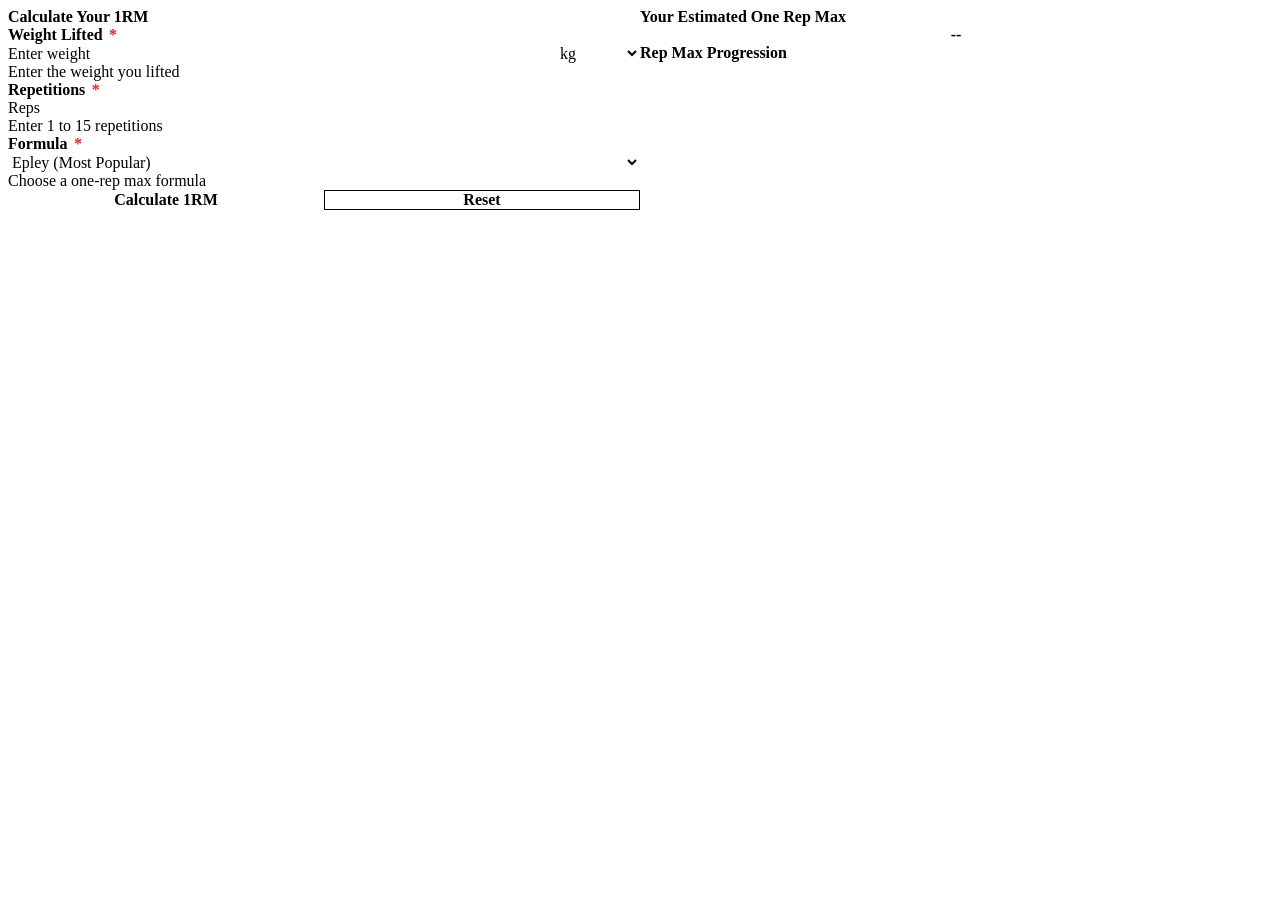
OneRepMaxCalculator › computes the source Epley example end-to-end
Type "100" into the number field named "Weight Lifted". click: [282, 54]
box: 8,44 -> 556,63
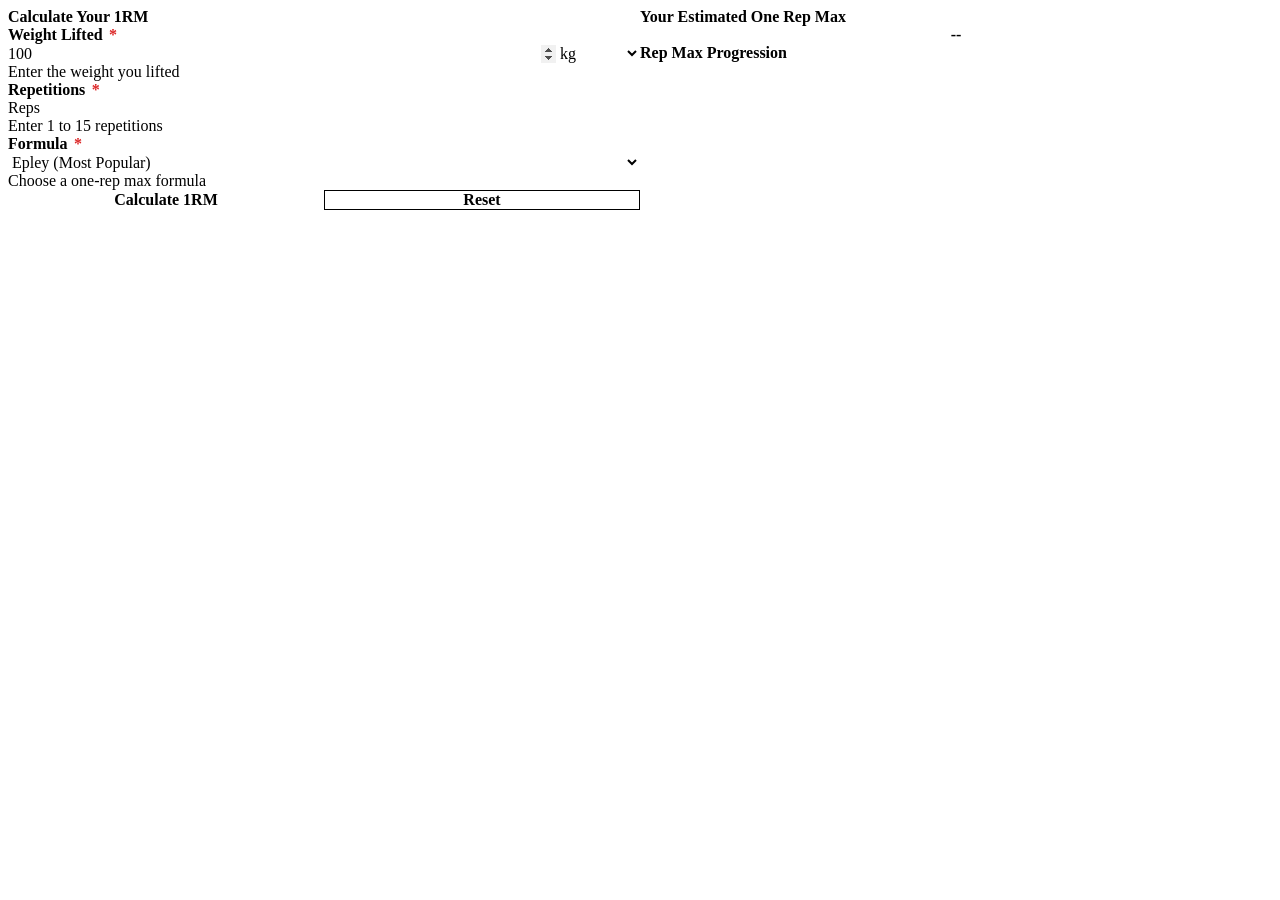
Type "10" into the number field labelled "Repetitions". click: [324, 108]
box: 8,99 -> 640,117
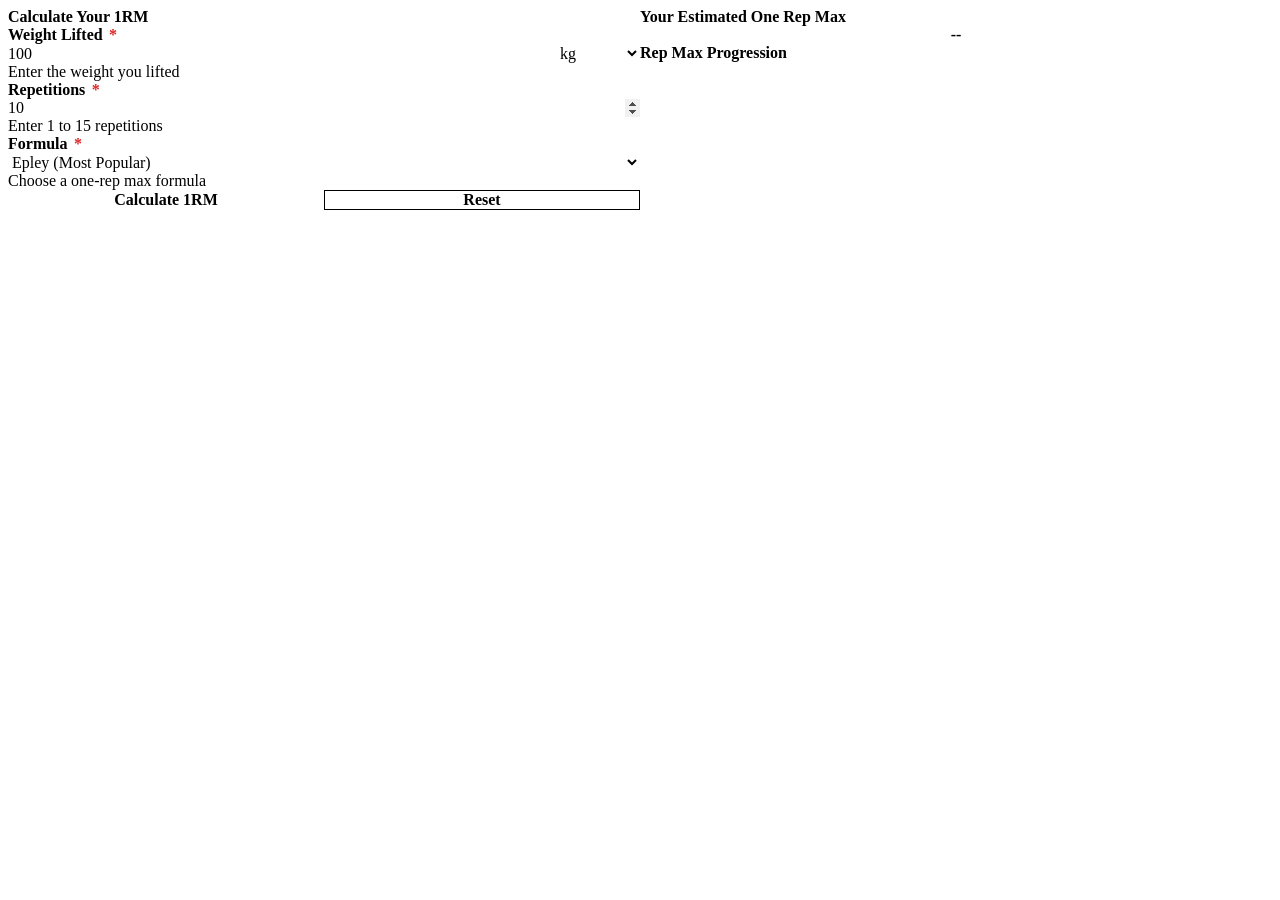
Select "Epley (Most Popular)" in the dropdown labelled "Formula". click: [324, 162]
box: 8,153 -> 640,172
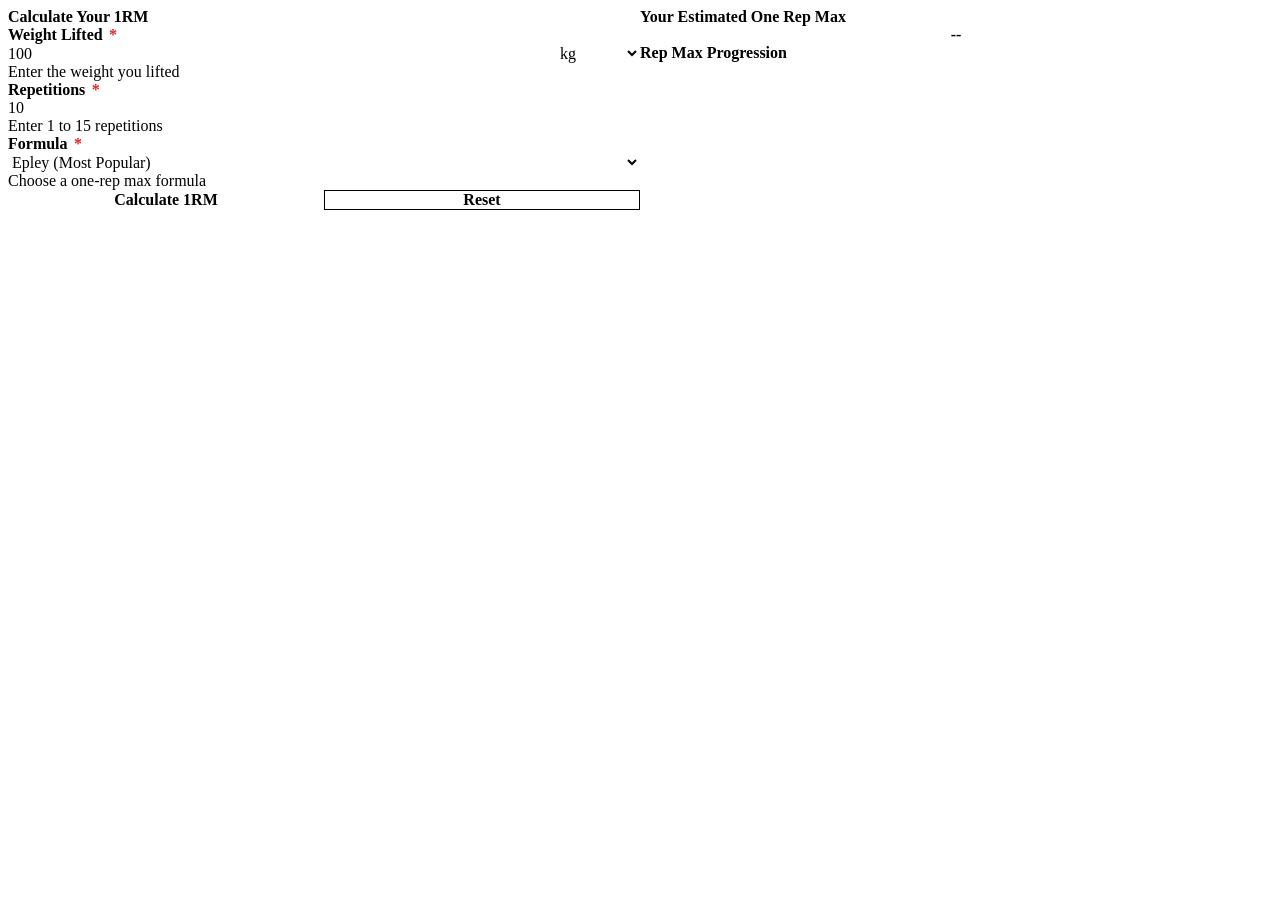
Click the button "Calculate 1RM". click: [166, 200]
box: 8,190 -> 324,210
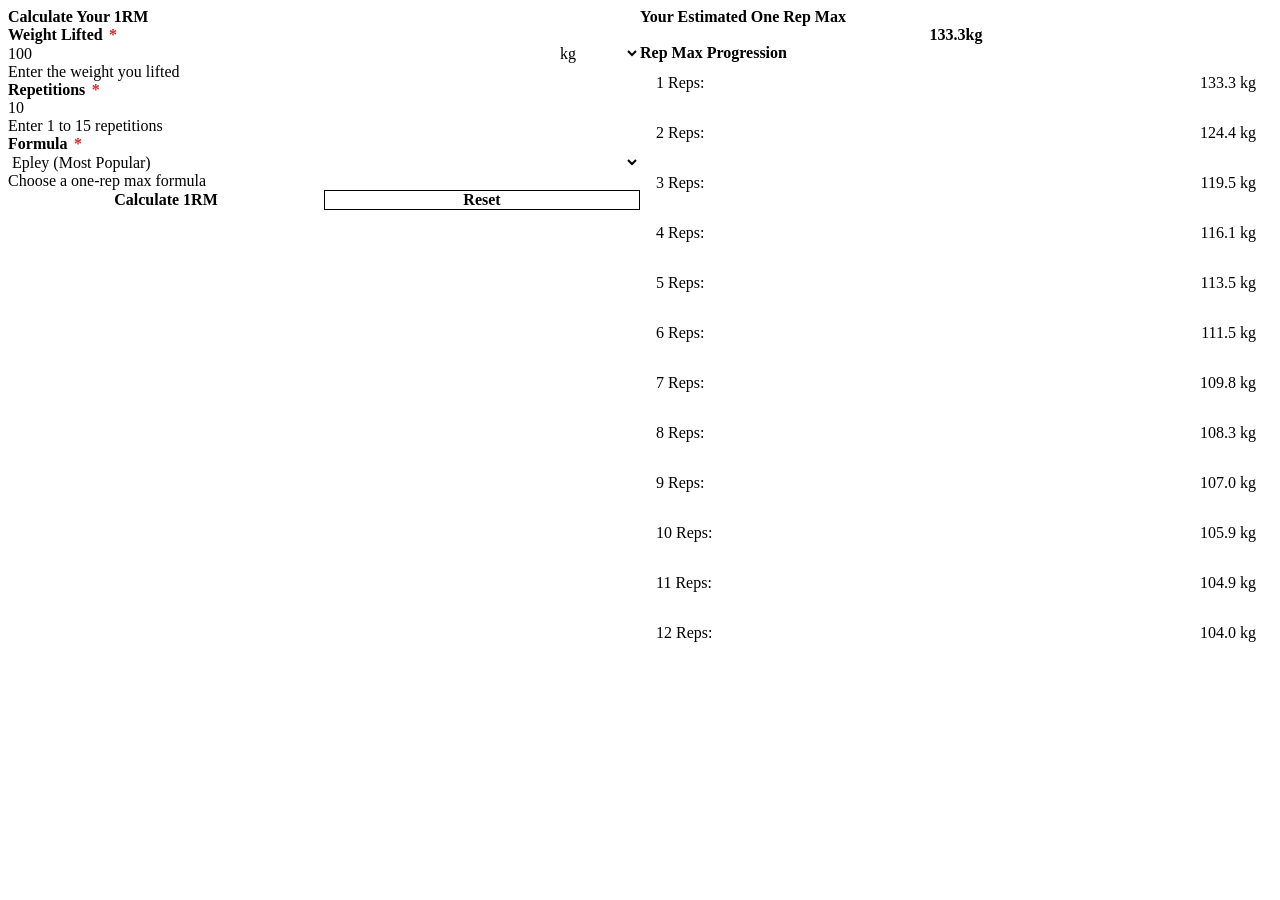
Now the element "Your Estimated One Rep Max" shows "133.3", box 930,26 -> 966,43
Now the element "Your Estimated One Rep Max" shows "1 Reps:", box 640,8 -> 1272,654
Now the element "Your Estimated One Rep Max" shows "124.4 kg", box 640,8 -> 1272,654
